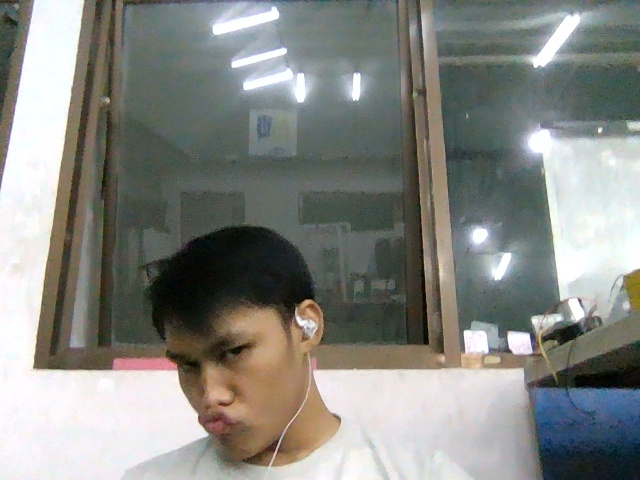mask_off: (182, 386, 304, 459)
